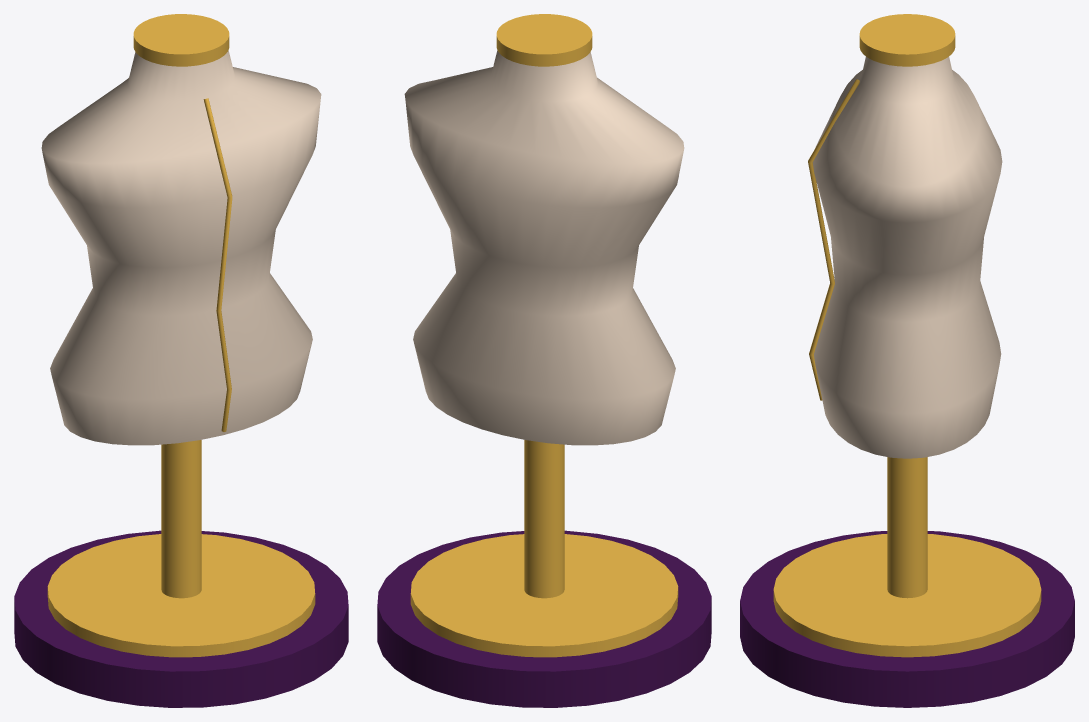
File: dress-form.glb
3 views of the same model, side by side, from view 1: azimuth 30°, elevation 25°; view 2: azimuth 150°, elevation 25°; view 3: azimuth 270°, elevation 25° (orthographic).
Parts seen in each view (by area): view 1: tailors_torso, stand_bead, stand_base, stem, neck_cap, front_seam; view 2: tailors_torso, stand_bead, stand_base, stem, neck_cap; view 3: tailors_torso, stand_bead, stand_base, stem, neck_cap, front_seam.
Boxes of the visible parts, left/top/right/bottom form: tailors_torso: left=41, top=50, right=321, bottom=445; stand_bead: left=47, top=534, right=315, bottom=657; stand_base: left=14, top=530, right=348, bottom=707; stem: left=161, top=440, right=201, bottom=598; neck_cap: left=133, top=14, right=229, bottom=66; front_seam: left=203, top=98, right=232, bottom=431; tailors_torso: left=404, top=50, right=684, bottom=445; stand_bead: left=410, top=534, right=678, bottom=657; stand_base: left=377, top=530, right=711, bottom=707; stem: left=524, top=440, right=564, bottom=598; neck_cap: left=496, top=14, right=592, bottom=66; tailors_torso: left=812, top=56, right=1002, bottom=458; stand_bead: left=773, top=534, right=1041, bottom=657; stand_base: left=740, top=531, right=1074, bottom=707; stem: left=887, top=457, right=927, bottom=598; neck_cap: left=859, top=14, right=955, bottom=66; front_seam: left=808, top=79, right=859, bottom=400.
Bounding box in the file's own units: 0.3 × 0.596 × 0.3.
